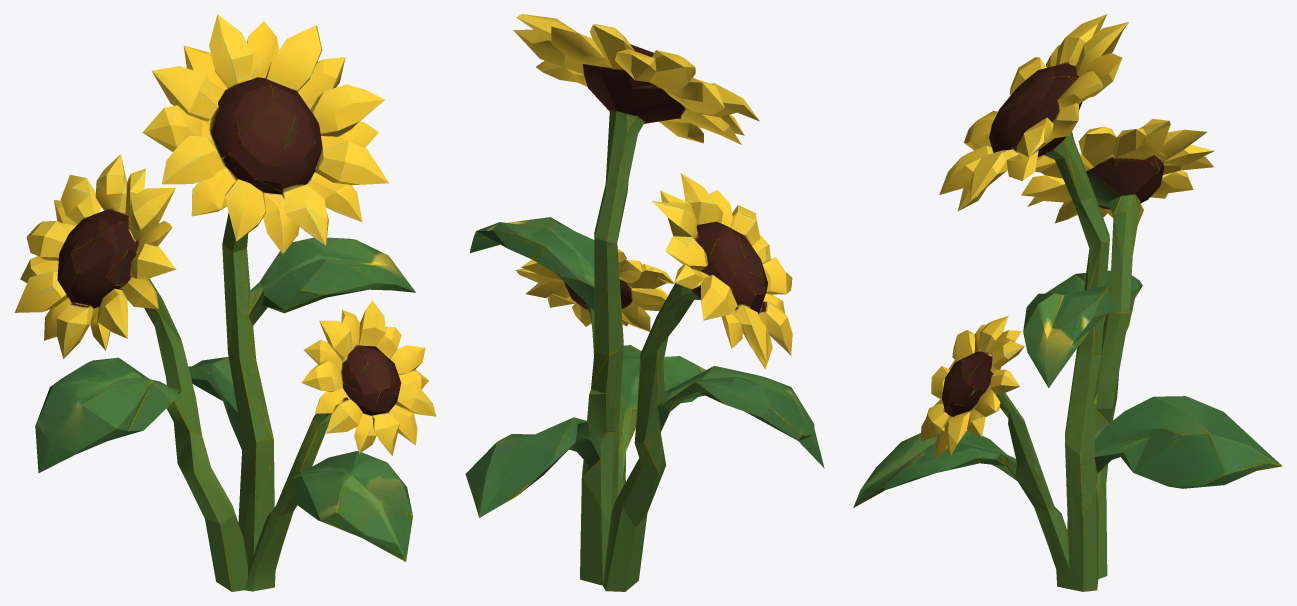
Rendered from flower-sunflower.glb.
The picture shows the model from 3 angles, left to right: view 1: azimuth 30°, elevation 25°; view 2: azimuth 150°, elevation 25°; view 3: azimuth 270°, elevation 25°; orthographic projection. The views are drawn at different scales.
Visible parts, largest first — view 1: flower-sunflower-fit; view 2: flower-sunflower-fit; view 3: flower-sunflower-fit.
Boxes of the visible parts, box(x1,y1,x2,y2) form: flower-sunflower-fit: box(14, 14, 436, 591); flower-sunflower-fit: box(465, 14, 824, 591); flower-sunflower-fit: box(853, 14, 1282, 591).
Size of the model in its own units: 1.23 by 1.8 by 1.26.
Materials: 1 (1 with a texture image).
